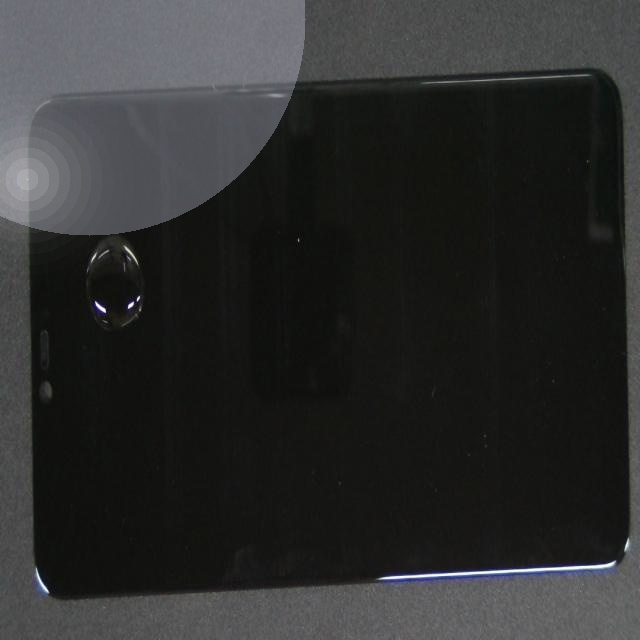oil: (93, 167, 205, 390)
